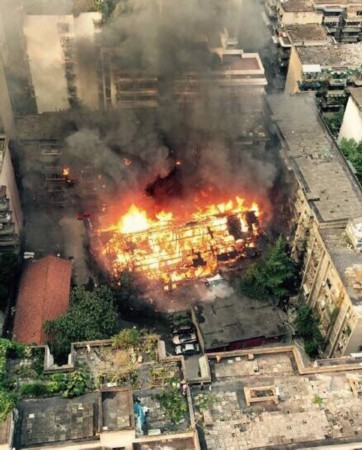fire: (95, 198, 273, 279)
smoke: (72, 13, 282, 181)
